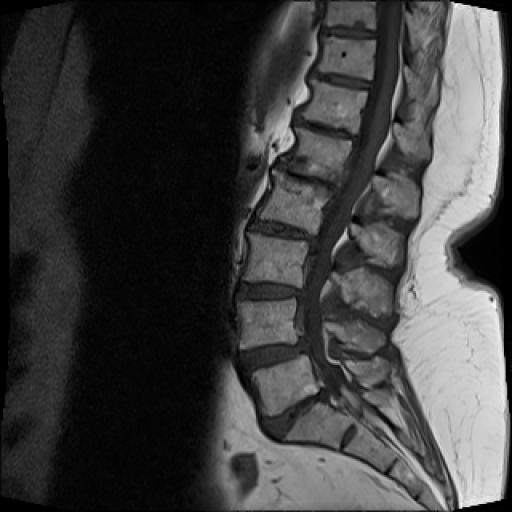L1: (295, 128, 352, 186)
L2: (257, 171, 331, 234)
L3: (240, 231, 307, 290)
L4: (236, 298, 299, 350)
L5: (251, 356, 319, 418)
S1: (280, 399, 356, 450)
